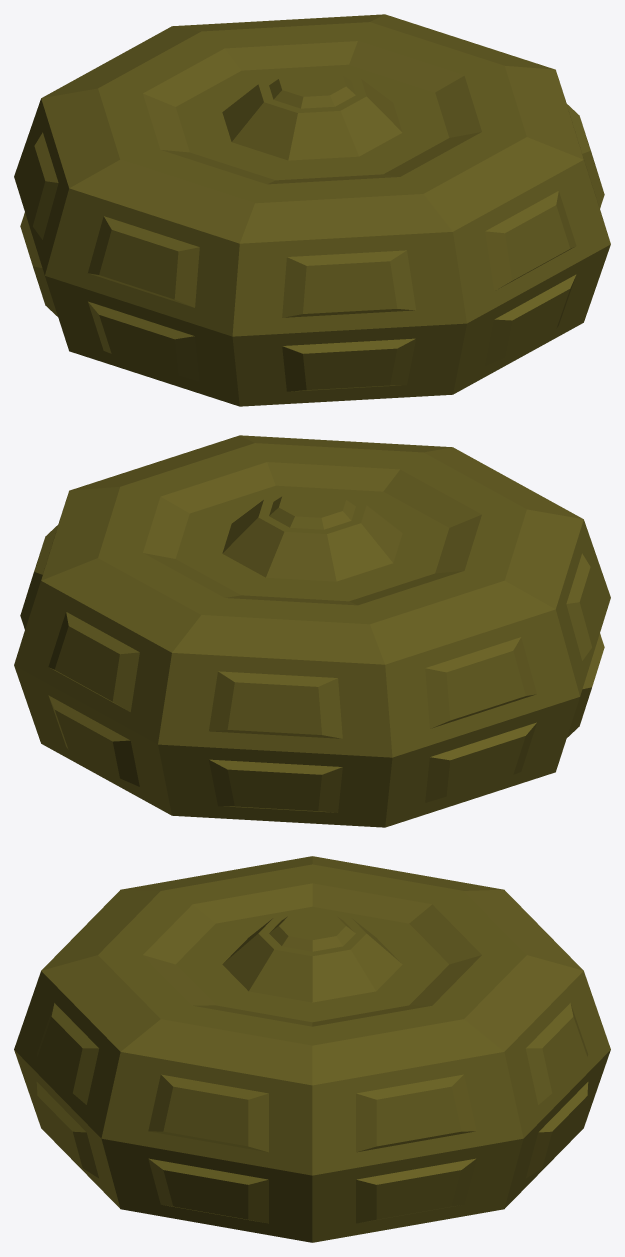
Rendered from В7-Мина.fbx.
3 renders of one model, top to bottom at view 1: azimuth 30°, elevation 25°; view 2: azimuth 150°, elevation 25°; view 3: azimuth 270°, elevation 25°, orthographic. The views are drawn at different scales.
Visible parts, largest first — view 1: Cylinder; view 2: Cylinder; view 3: Cylinder.
Boxes of the visible parts, x1,y1,x2,y2 form: Cylinder: (14, 14, 610, 406); Cylinder: (14, 435, 610, 827); Cylinder: (14, 856, 610, 1242).
Size of the model in its own units: 220 by 88.62 by 220.
